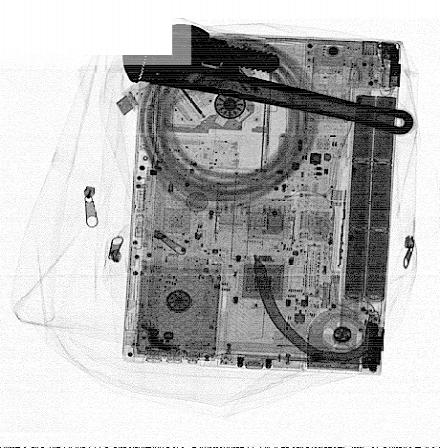Wrench: (121, 23, 414, 135)
